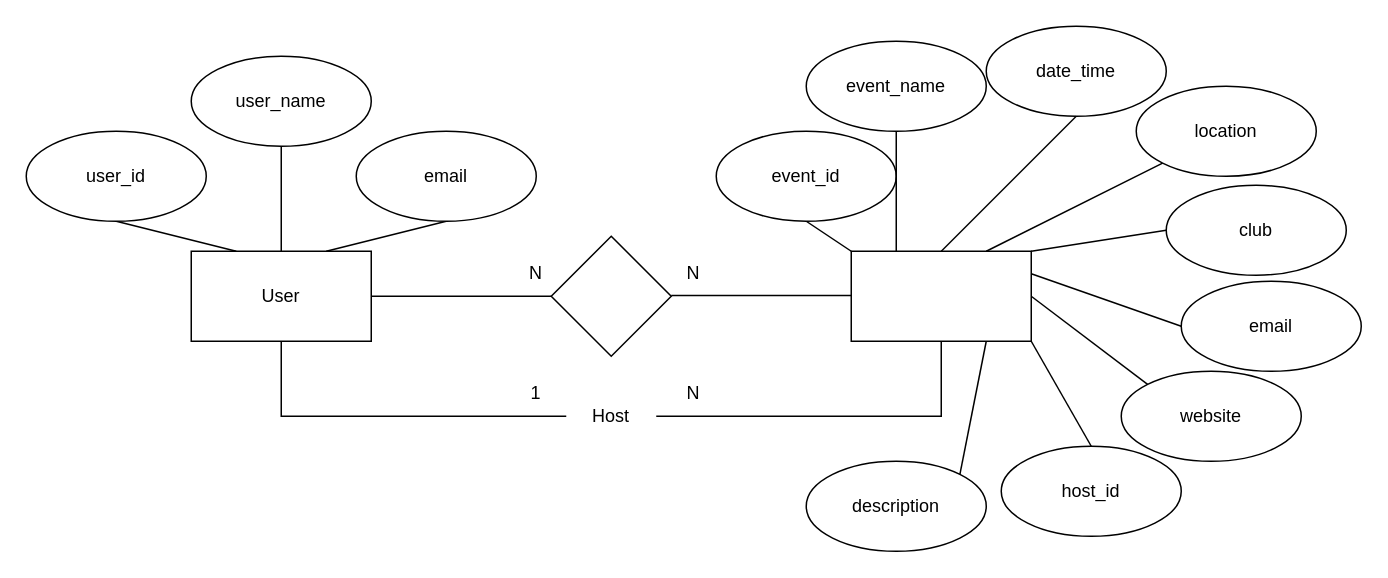
The diagram is 1388 pixels wide and 578 high, and some of its shapes have lost their labels. Each missing label, with the centre of its shape:
Event: (940,295)
RSVP: (610,295)
